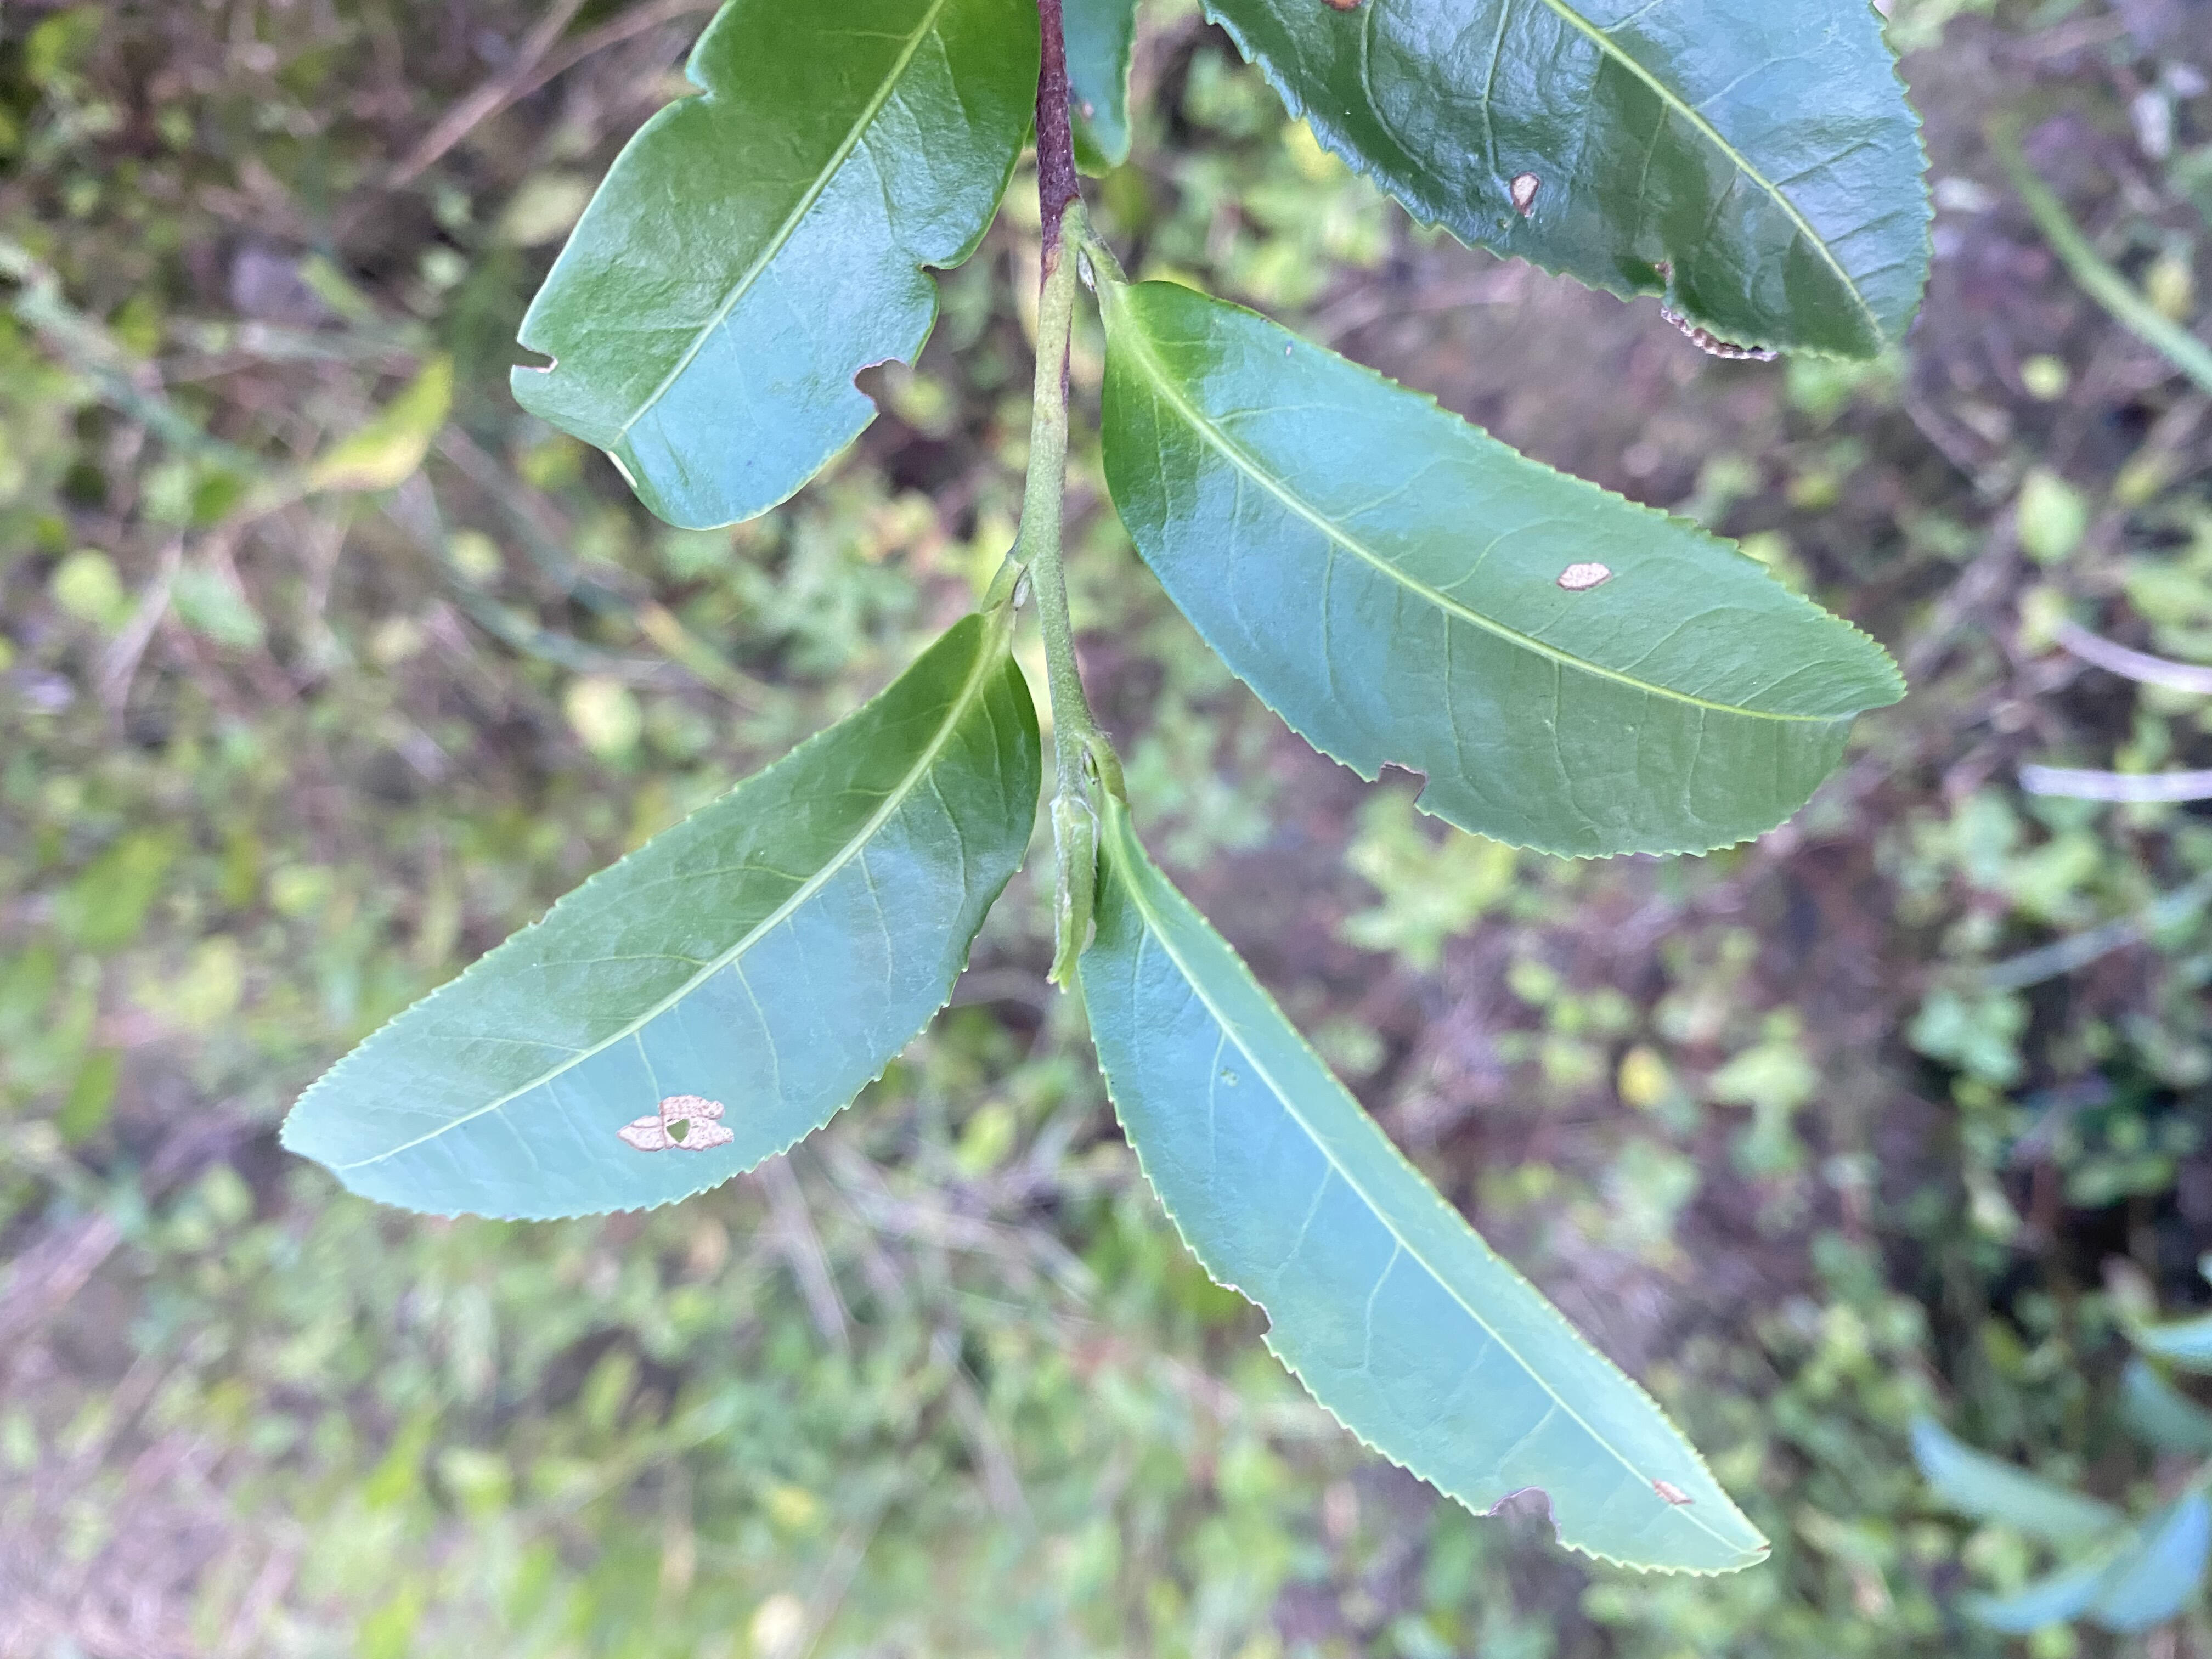chihuo_high: (1075, 802, 1775, 1577), (505, 5, 1045, 532)
tanju_high: (272, 606, 1045, 1227)
